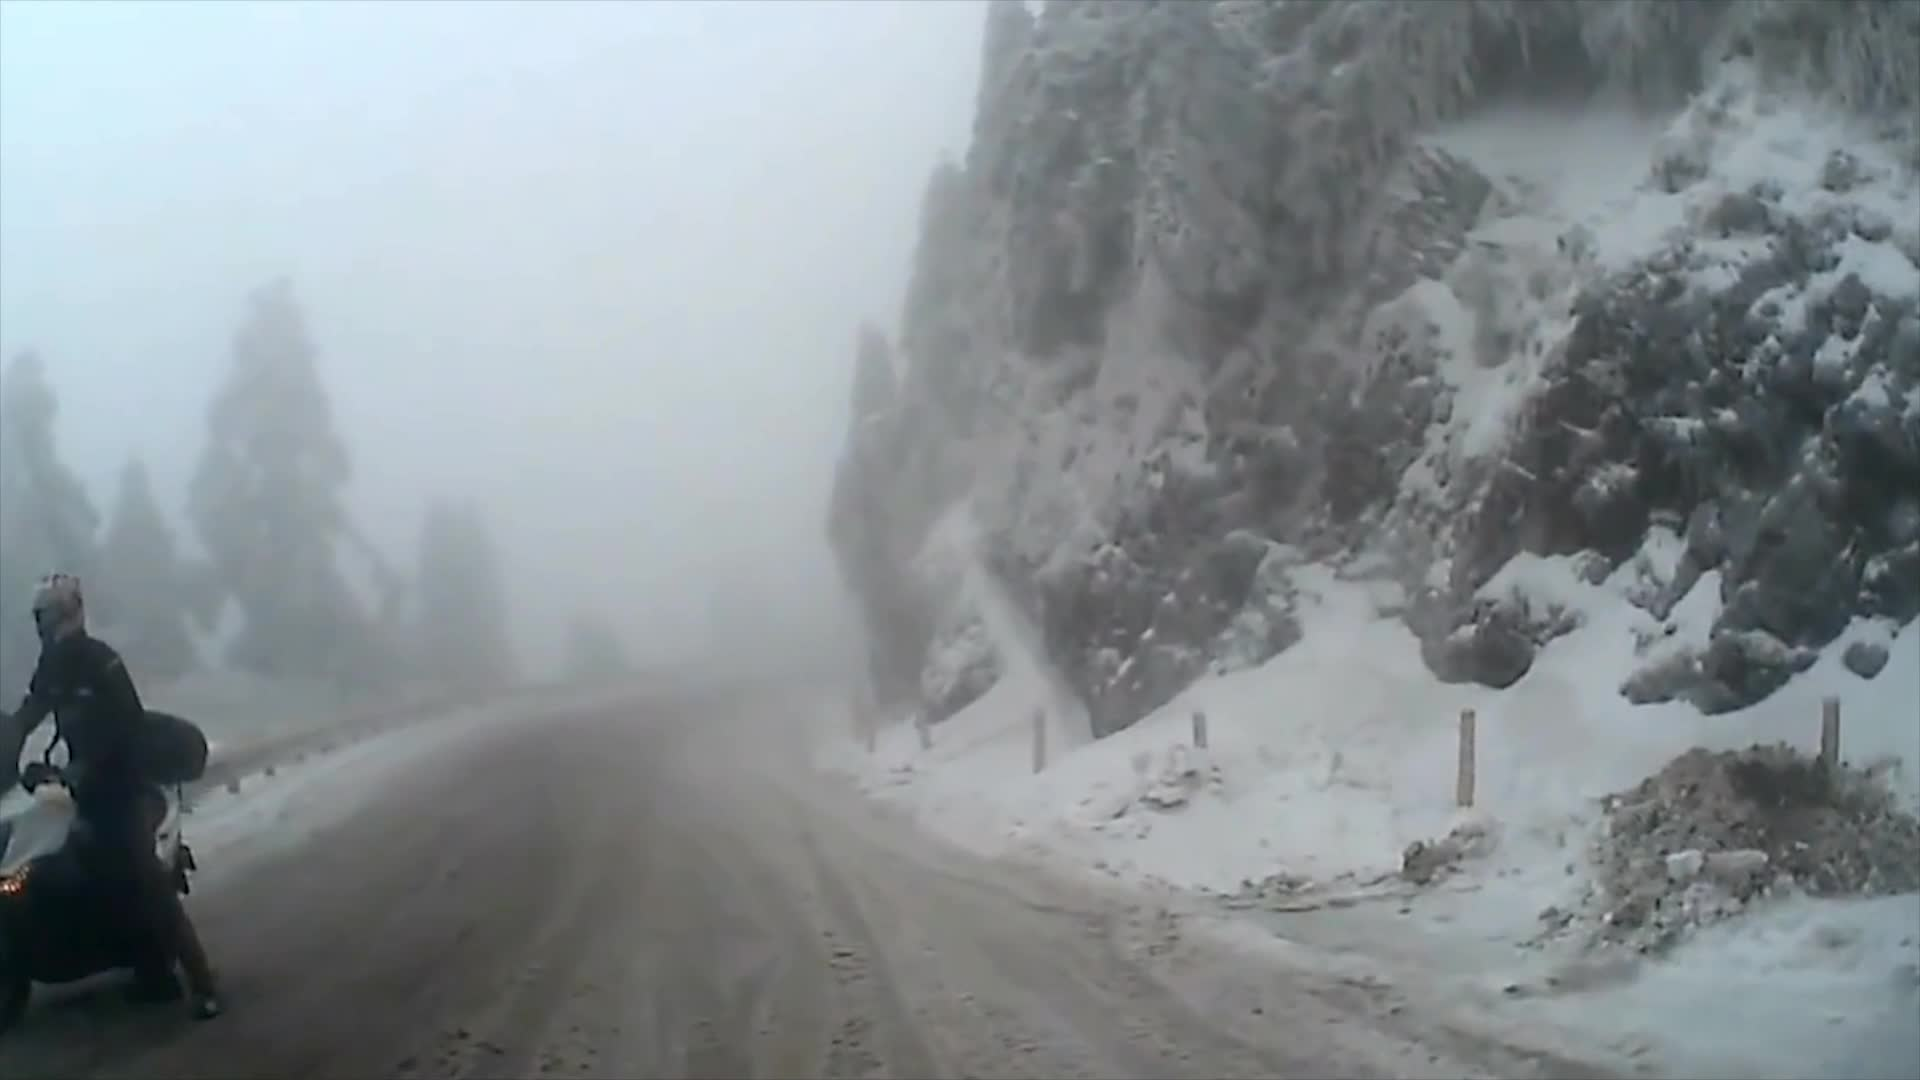pedestrian: (12, 570, 221, 1018)
